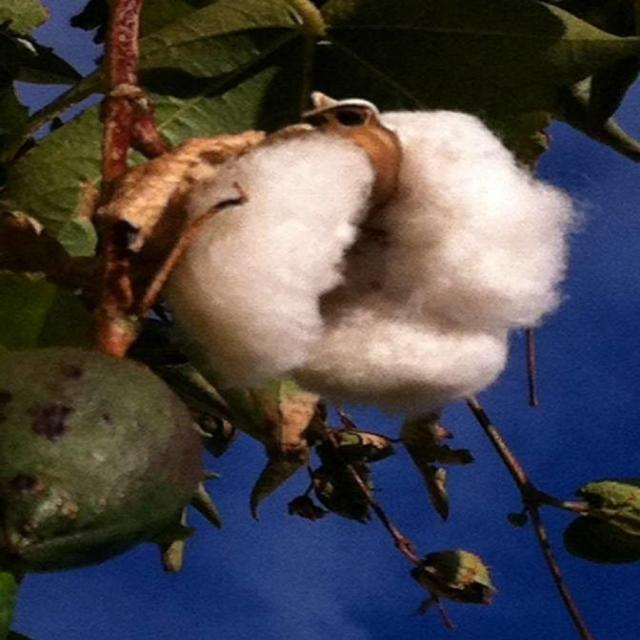Early_blight: (144, 98, 578, 407)
